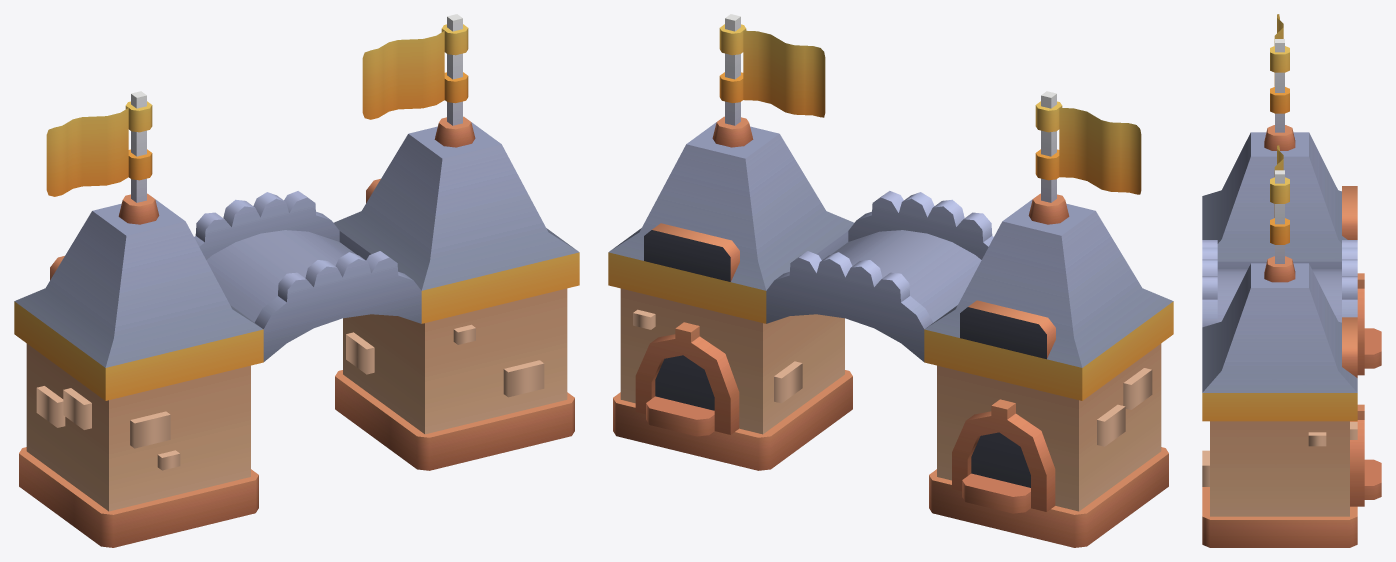
File: park-entrance.glb
The picture shows the model from 3 angles, left to right: view 1: azimuth 30°, elevation 25°; view 2: azimuth 150°, elevation 25°; view 3: azimuth 270°, elevation 25°; orthographic projection. The views are drawn at different scales.
Visible parts, largest first — view 1: park-entrance; view 2: park-entrance; view 3: park-entrance.
Boxes of the visible parts, left/top/right/bottom form: park-entrance: left=14, top=14, right=579, bottom=547; park-entrance: left=608, top=14, right=1173, bottom=547; park-entrance: left=1202, top=14, right=1381, bottom=547.
Bounding box in the file's own units: 3.09 × 2.43 × 1.16.
Materials: 1 (1 with a texture image).
